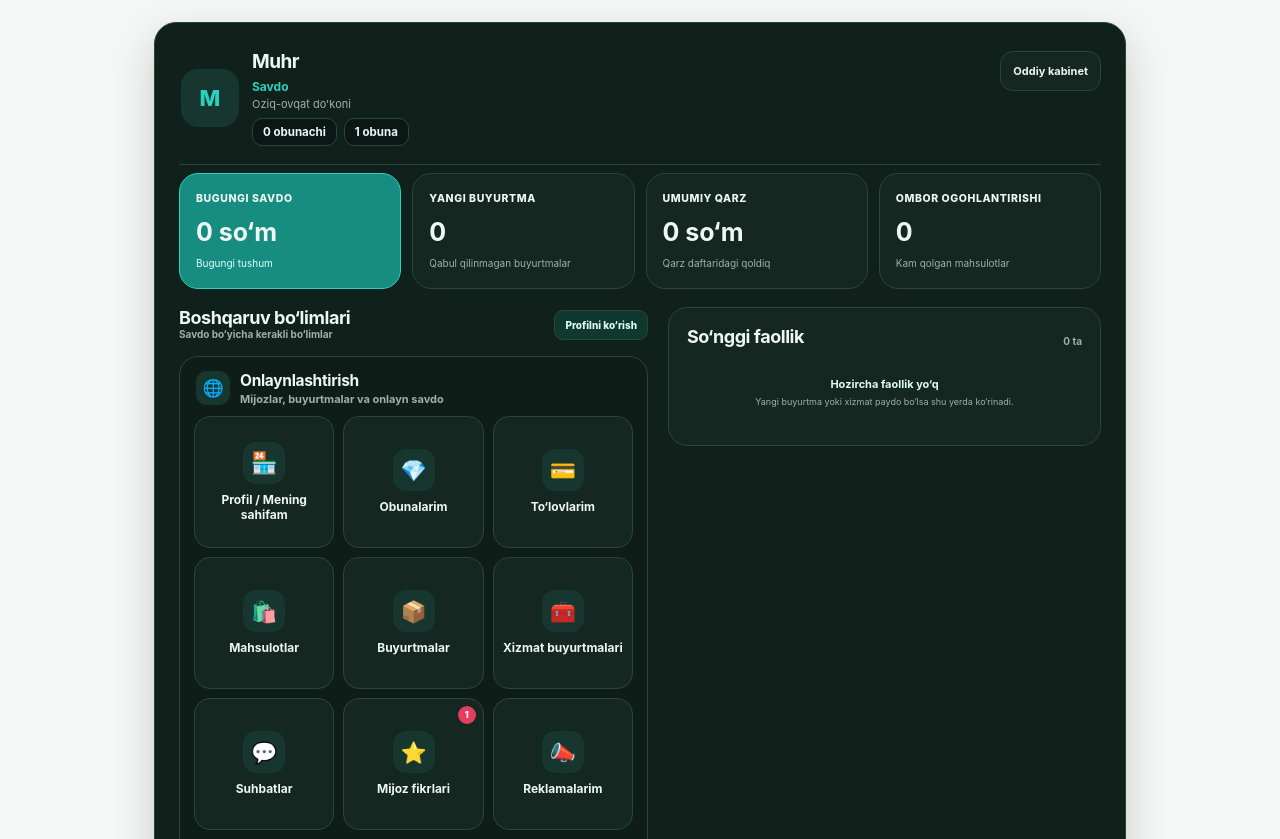
Test: business online server mutations › renders following as the exact v1656 read-only profile list
Expected: the heading "Muhr" is shown, 252,50 -> 299,73
Click the button with aria-label "Biznes obunalari" at [376, 132], box 344,118 -> 409,146
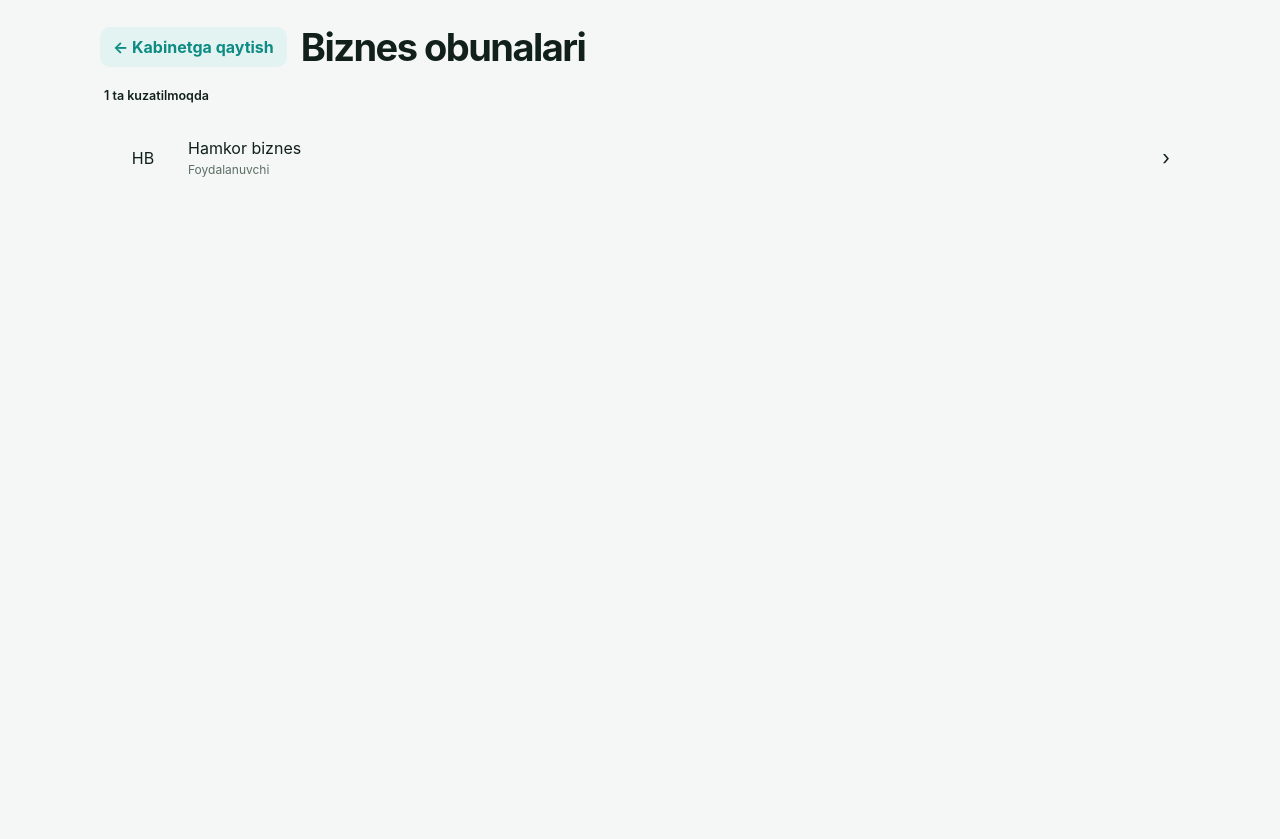
Expected: the heading "Biznes obunalari" is shown, 301,24 -> 585,70
